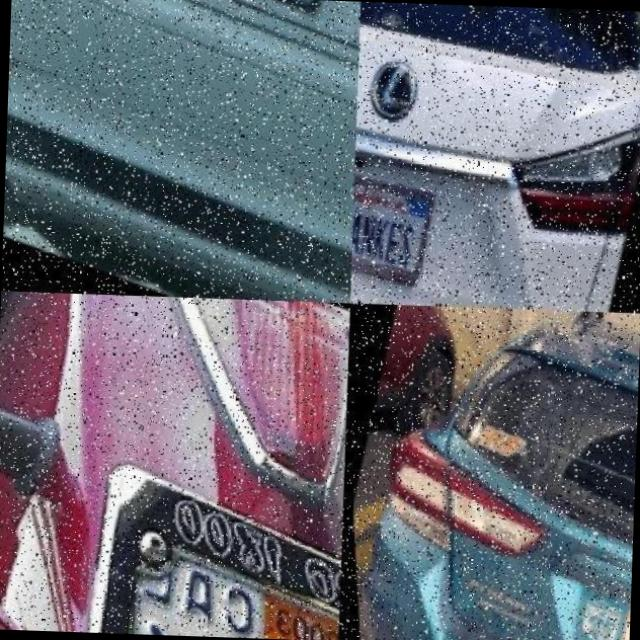LicensePlate: (31, 446, 344, 640), (163, 0, 337, 78), (351, 152, 435, 278)
